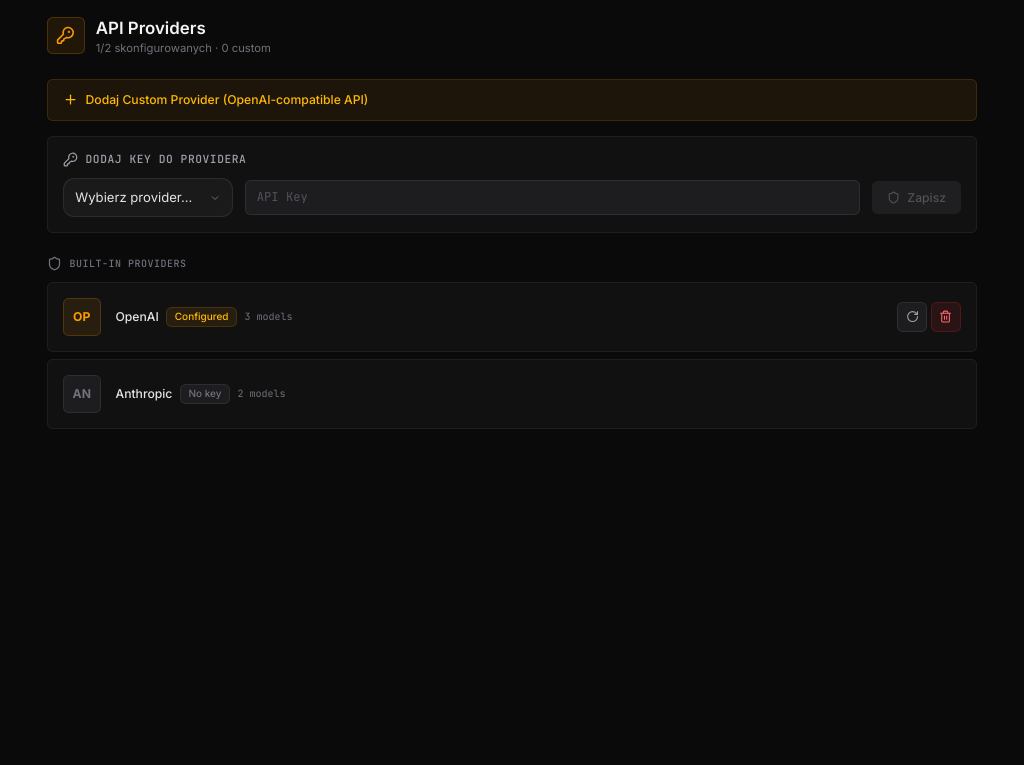
Test case: ApiKeysPage › opens add provider form when clicking the button
Click the button "Dodaj Custom Provider (OpenAI-compatible API)". click: (227, 100)
box: x1=47 y1=79 x2=977 y2=121
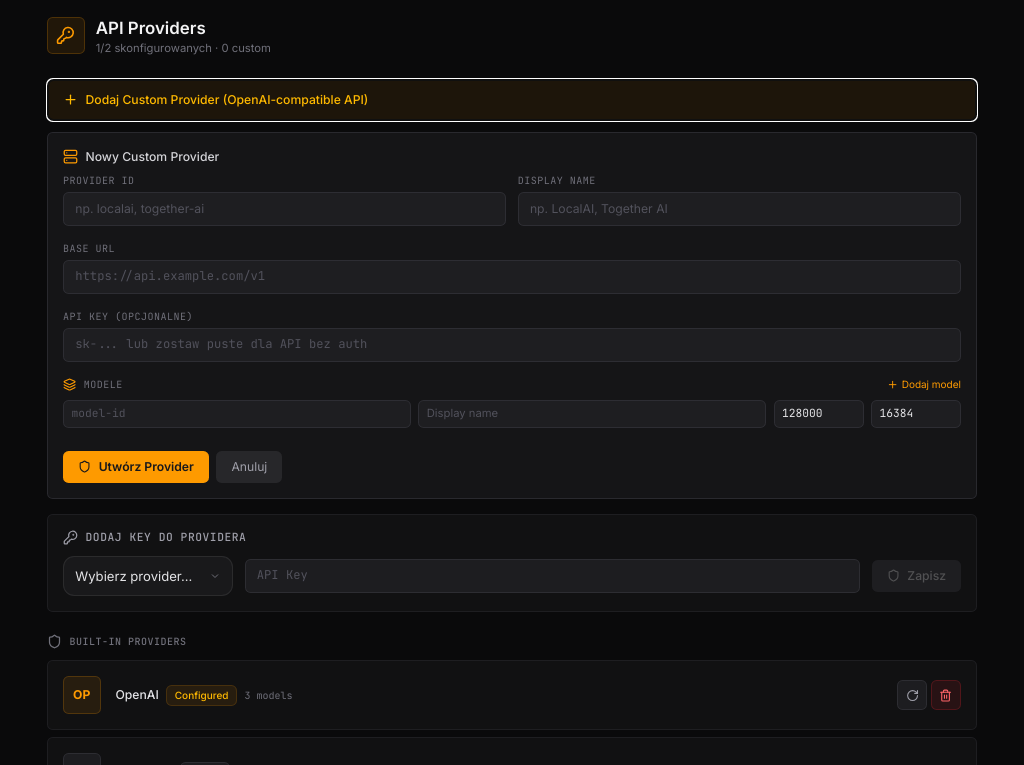
Expected: the button "Utwórz Provider" is shown, x1=63 y1=450 x2=209 y2=483
